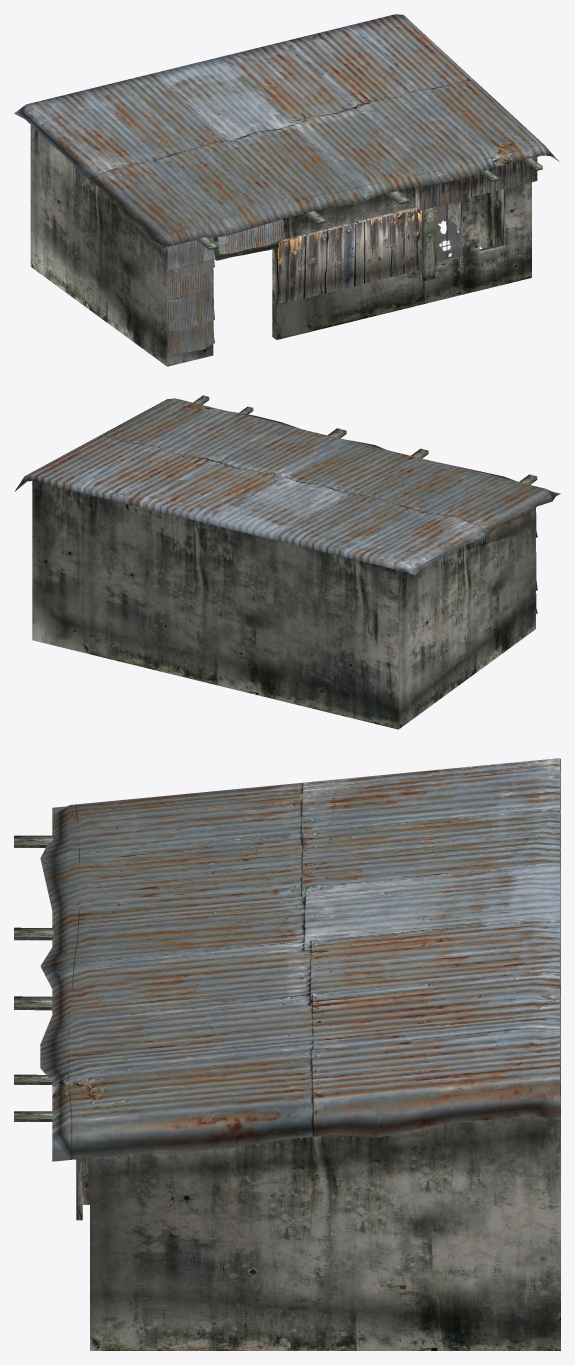
The model's file is shanty16.fbx.
3 views of the same model, one above another, from view 1: azimuth 30°, elevation 25°; view 2: azimuth 150°, elevation 25°; view 3: azimuth 270°, elevation 25° (orthographic). The views are drawn at different scales.
Parts seen in each view (by area): view 1: U3DMesh; view 2: U3DMesh; view 3: U3DMesh.
Boxes of the visible parts, x1,y1,x2,y2 form: U3DMesh: [14, 14, 559, 366]; U3DMesh: [14, 395, 560, 729]; U3DMesh: [14, 758, 560, 1350].
Size of the model in its own units: 325 by 128 by 224.
